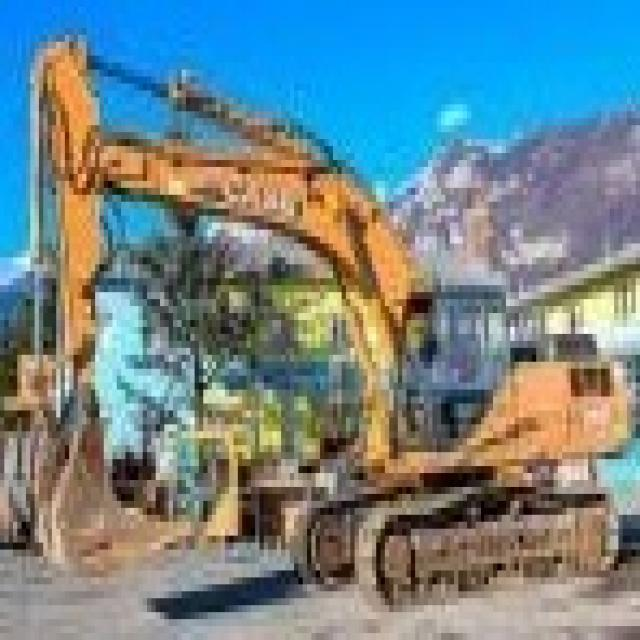excavator: (270, 268, 628, 591)
